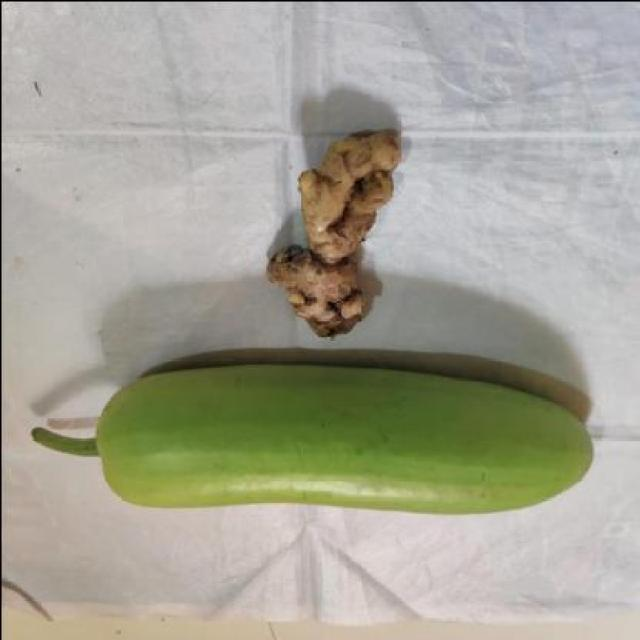Calabash: (28, 368, 597, 510)
Ginger: (268, 130, 400, 338)
